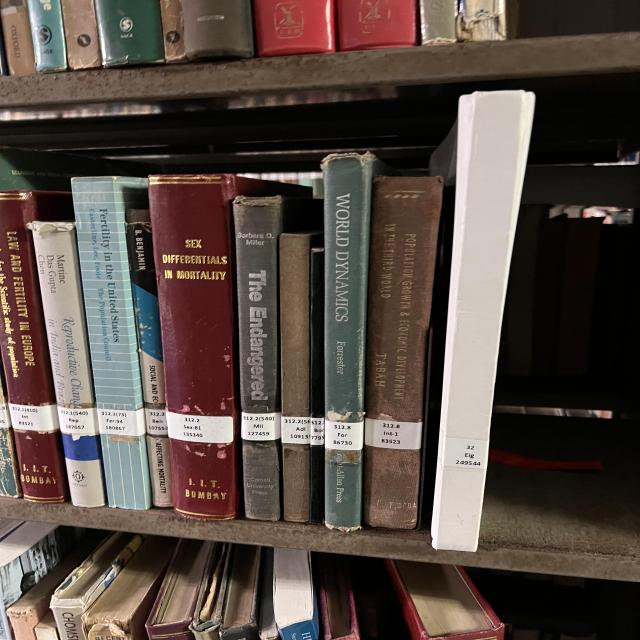Book: (148, 174, 310, 520), (432, 90, 535, 551), (363, 176, 443, 529), (72, 176, 152, 510), (0, 190, 73, 502), (28, 221, 105, 508), (322, 154, 378, 531), (233, 196, 285, 520), (278, 231, 323, 522)
Label: (167, 411, 233, 444), (365, 419, 422, 450), (442, 438, 488, 469), (8, 404, 60, 431), (97, 408, 145, 436), (57, 406, 98, 436), (242, 412, 282, 441), (325, 420, 363, 450), (282, 416, 310, 444), (145, 409, 168, 435), (310, 418, 325, 445)
